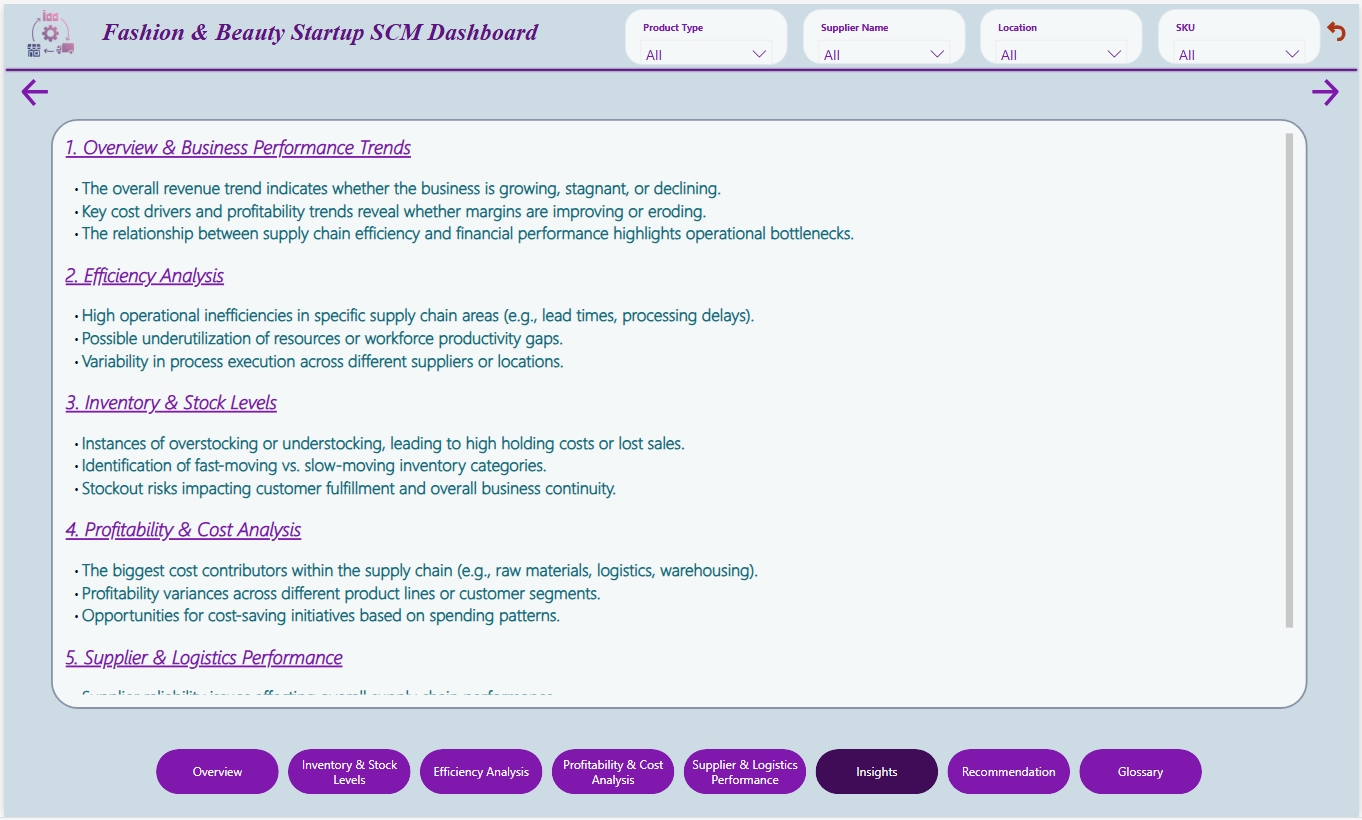

This screenshot's page, from the dashboard's own definition file:
{"tool":"powerbi","page":{"name":"Insights","canvas":[1500,900],"ordinal":5},"visuals":[{"type":"textbox","box":[103.2,11,554.4,46],"z":0},{"type":"image","box":[0,0,103.2,65.1],"z":1000},{"type":"shape","box":[0,40,1500.4,66.2],"z":2000},{"type":"pageNavigator","box":[168.3,824.8,1162.6,50.5],"z":3000},{"type":"slicer","fields":{"Values":["supply_chain_data.Product Type"]},"box":[687.6,5,180,62],"z":4000},{"type":"slicer","fields":{"Values":["supply_chain_data.Supplier Name"]},"box":[884.1,5,180,61.1],"z":5000},{"type":"slicer","fields":{"Values":["supply_chain_data.Location"]},"box":[1080.5,5,180,61.1],"z":6000},{"type":"slicer","fields":{"Values":["supply_chain_data.SKU"]},"box":[1277,5,180,61.1],"z":7000},{"type":"actionButton","box":[1460,0,40,60.5],"z":8000},{"type":"actionButton","box":[15.5,78.8,99.9,39.4],"z":9000},{"type":"actionButton","box":[1442.9,78.8,56.3,39.4],"z":10000},{"type":"textbox","box":[52.1,127.4,1391.1,653.3],"z":11000}]}

Visuals, with their boxes in screenshot pixels (x1, y1, x2, y2), scaled from the page's 1500x900 canvas onto the 1362x820 screenshot:
textbox: (94, 10, 597, 52)
image: (0, 0, 94, 59)
shape: (0, 36, 1361, 97)
pageNavigator: (153, 751, 1208, 797)
slicer - supply_chain_data.Product Type: (624, 5, 788, 61)
slicer - supply_chain_data.Supplier Name: (803, 5, 966, 60)
slicer - supply_chain_data.Location: (981, 5, 1145, 60)
slicer - supply_chain_data.SKU: (1160, 5, 1323, 60)
actionButton: (1326, 0, 1361, 55)
actionButton: (14, 72, 105, 108)
actionButton: (1310, 72, 1361, 108)
textbox: (47, 116, 1310, 711)
